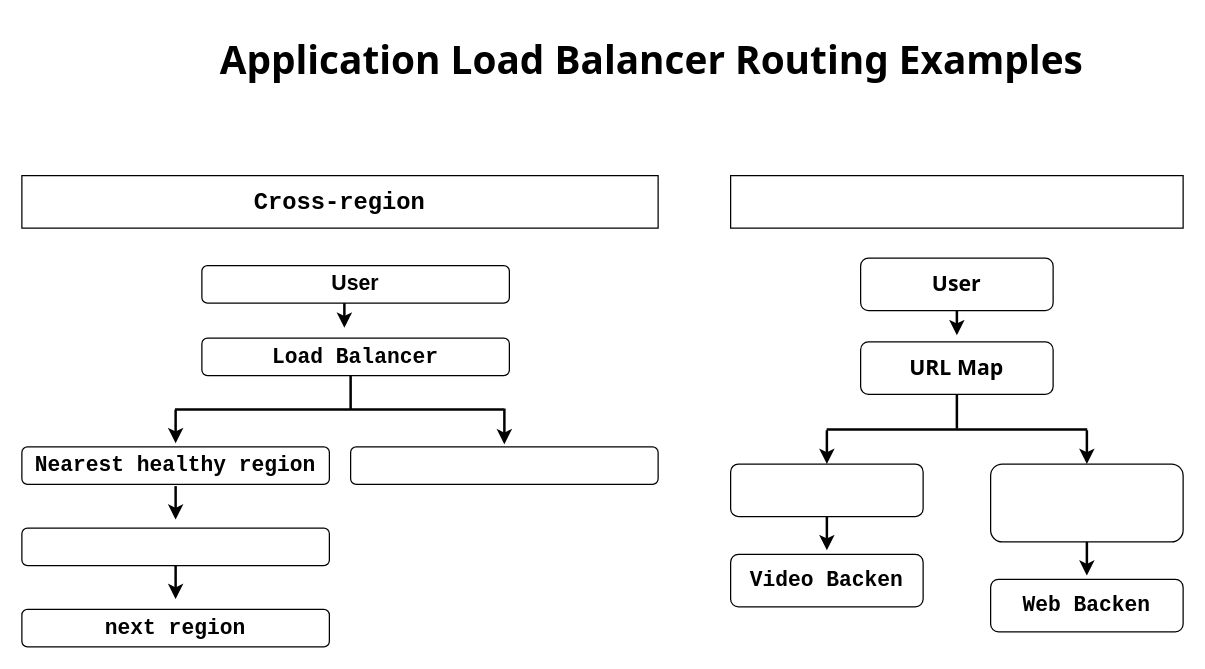
Some shapes in this 1205 by 669 pixel diagram are drawn without their labels. The centre of each missing label's shape, as x and y in pixels:
"/ Video" goes at pixel 826 489.
"Content-based" goes at pixel 956 201.
"Default / other paths" goes at pixel 1086 502.
"Failover to next region" goes at pixel 503 465.
"if unavailable/full" goes at pixel 175 546.
